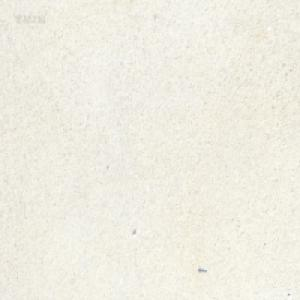Nail: (197, 266, 207, 272)
